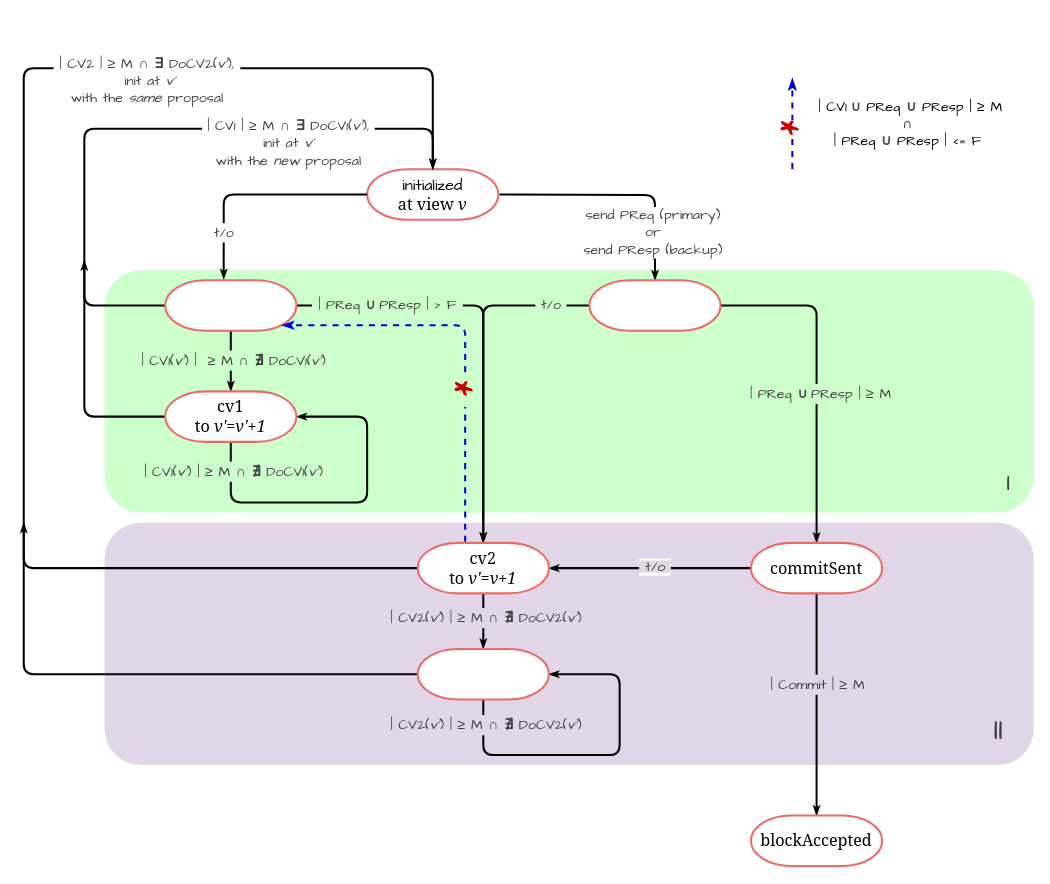
The diagram is 1050 pixels wide and 884 high, and some of its shapes have lost their labels. The shapes that lost their labels are listed below. From the top down, each one's centre as x and y in pixels, then its label:
At pixel 230 305: "cv1 to v'=v+1".
At pixel 654 305: "prepareSent".
At pixel 482 673: "cv2 to v'=v'+1".
